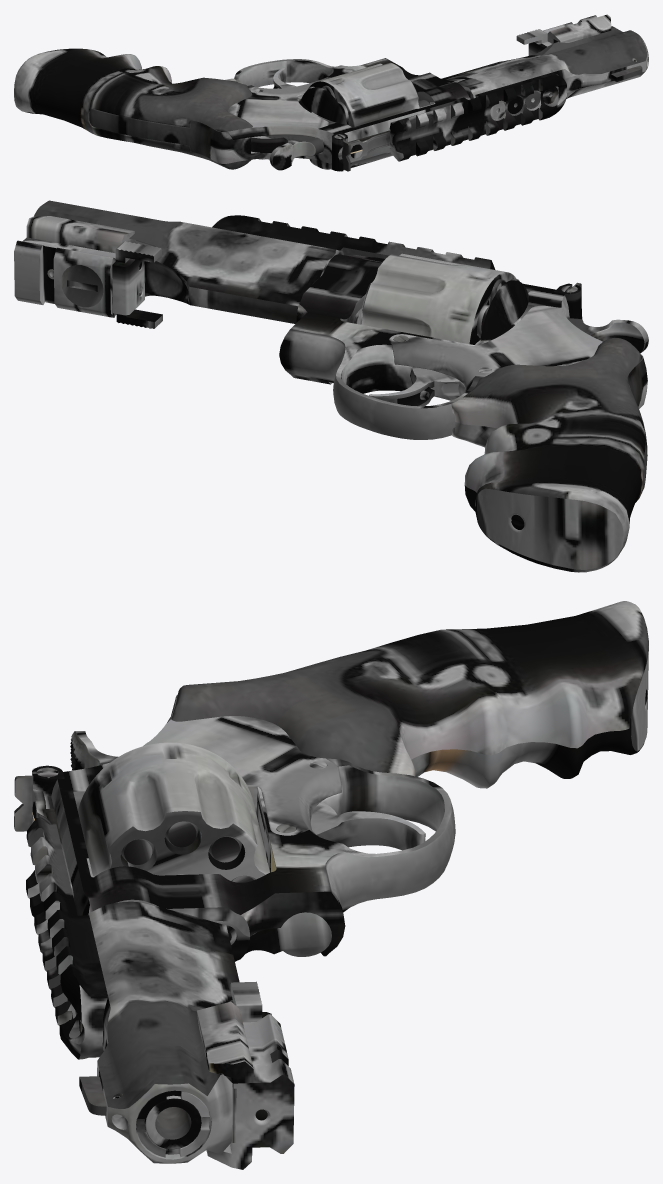
File: w_revolver.glb
3 renders of one model, top to bottom at view 1: azimuth 30°, elevation 25°; view 2: azimuth 150°, elevation 25°; view 3: azimuth 270°, elevation 25°, orthographic. The views are drawn at different scales.
Visible parts, largest first — view 1: w_revolver; view 2: w_revolver; view 3: w_revolver.
Boxes of the visible parts, <box> form: w_revolver: <box>14,14,648,171</box>; w_revolver: <box>14,200,648,572</box>; w_revolver: <box>14,601,648,1169</box>.
Bounding box in the file's own units: 0.4309 × 0.068 × 0.2363.
1 material, 1 textured.
